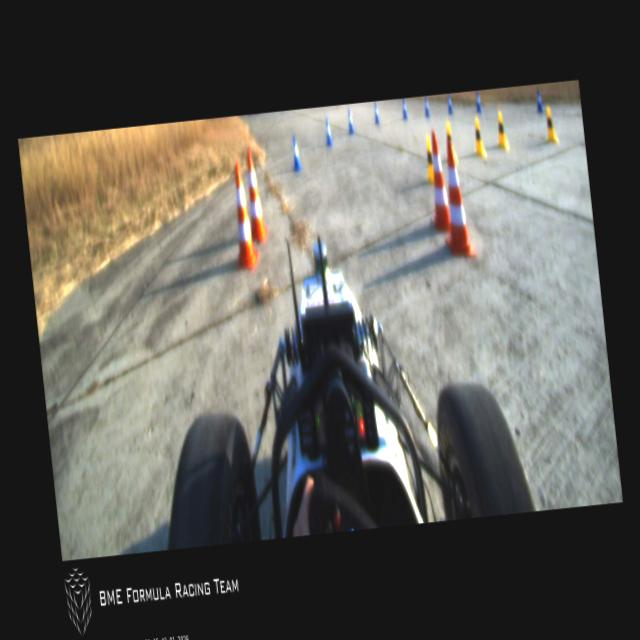blue_cone: (289, 135, 302, 171), (323, 116, 333, 148), (534, 88, 543, 113), (473, 90, 482, 114), (346, 108, 354, 134), (372, 100, 380, 126), (445, 93, 454, 115), (422, 95, 430, 117), (401, 98, 408, 120)
large_orange_cone: (434, 140, 476, 258), (224, 158, 260, 272), (421, 128, 452, 232), (242, 150, 269, 244)
yellow_cone: (471, 116, 487, 160), (422, 136, 436, 186), (443, 120, 458, 164), (493, 109, 509, 150), (542, 105, 558, 143)
